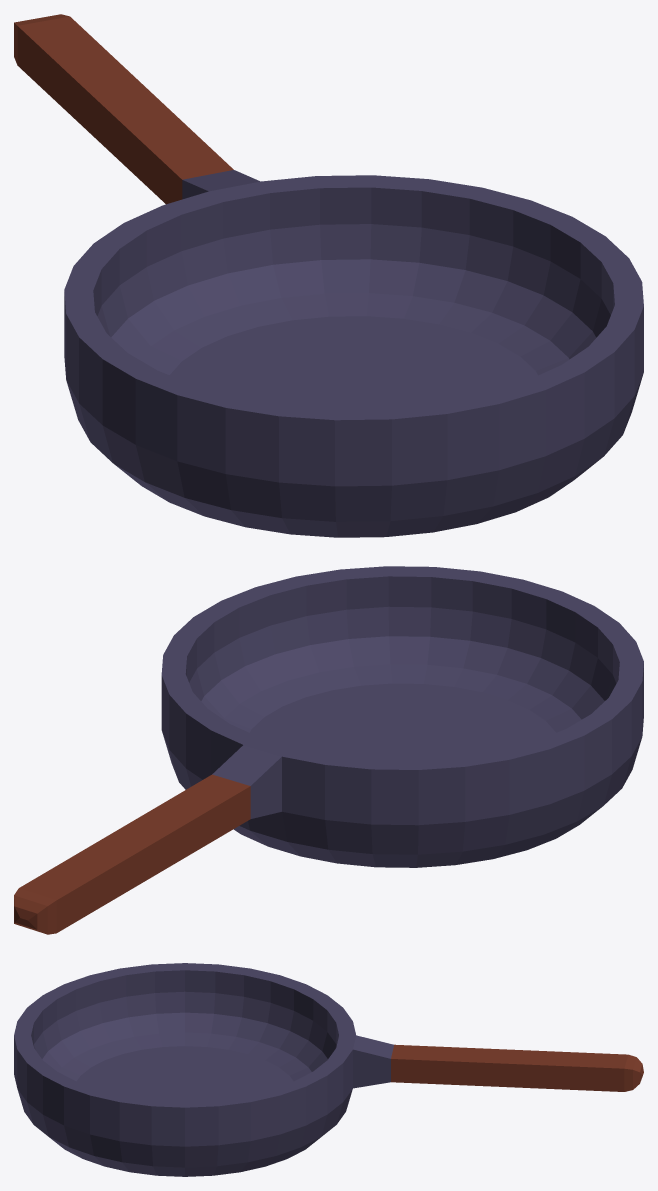
Rendered from pan.obj.
3 views of the same model, one above another, from view 1: azimuth 30°, elevation 25°; view 2: azimuth 150°, elevation 25°; view 3: azimuth 270°, elevation 25° (orthographic). The views are drawn at different scales.
Visible parts, largest first — view 1: Cylinder.001; view 2: Cylinder.001; view 3: Cylinder.001.
Boxes of the visible parts, x1,y1,x2,y2 form: Cylinder.001: [14, 14, 643, 537]; Cylinder.001: [14, 566, 643, 934]; Cylinder.001: [14, 963, 643, 1176].
Size of the model in its own units: 0.7 by 0.196 by 1.29.
